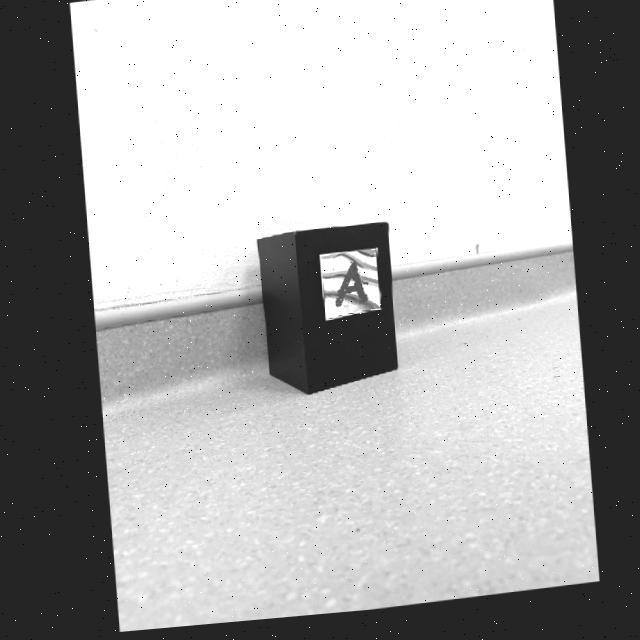A: (333, 268, 363, 312)
